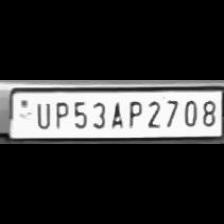0: (178, 97, 198, 127)
2: (144, 98, 162, 128)
3: (88, 98, 106, 130)
5: (70, 98, 89, 130)
7: (160, 97, 180, 127)
8: (198, 96, 218, 128)
A: (107, 98, 125, 128)
P: (50, 98, 68, 130), (124, 97, 142, 128)
U: (30, 100, 52, 128)
